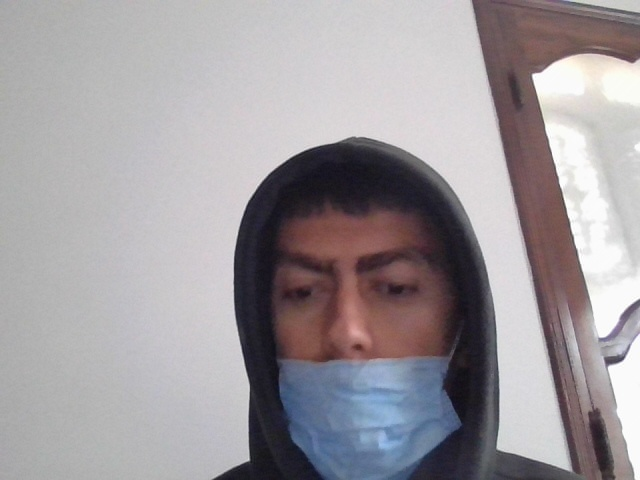mask_weared_incorrect: (250, 168, 467, 479)
